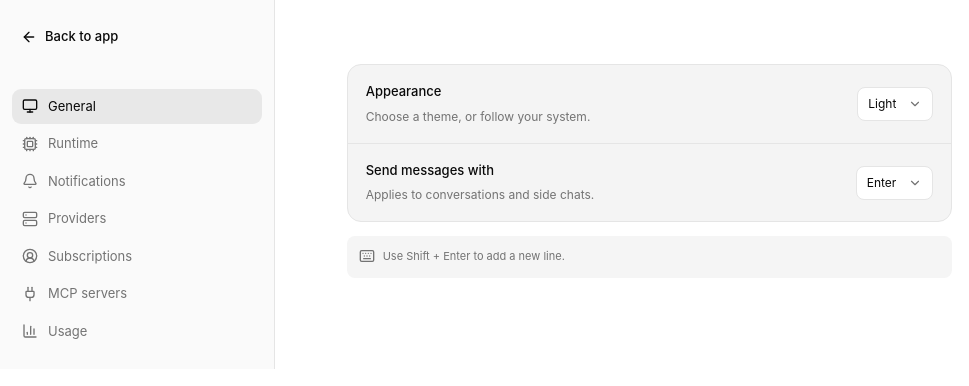
Test: reports configuration read failures and allows a fresh read
Click the button "Runtime": click(137, 144) [12,126,262,162]
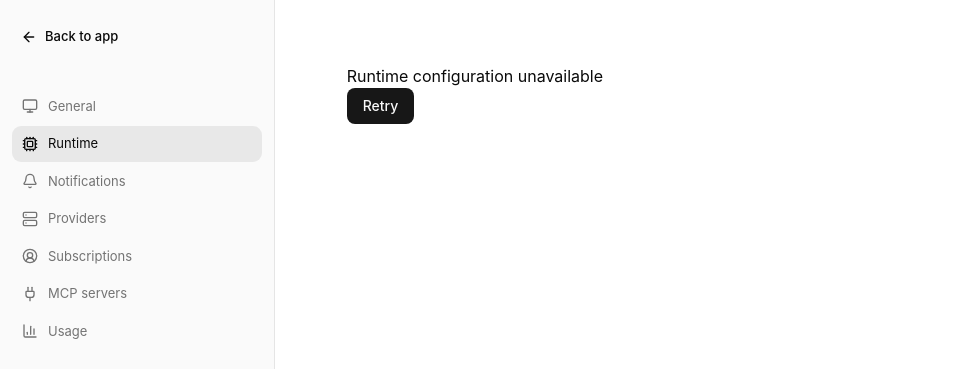
Expected: the message reads "Runtime configuration unavailable", [347,66,603,86]
Click the button "Retry": click(380, 106) [347,88,414,124]
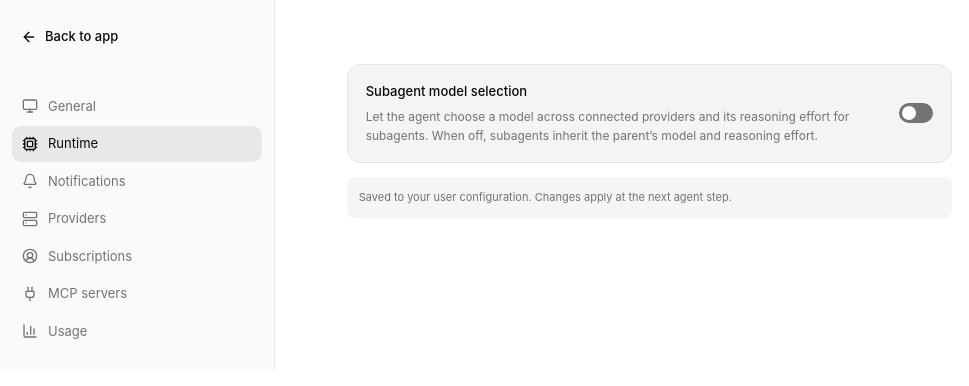
Expected: the switch named "Subagent model selection" is shown, [899,103,933,123]
Expected: the message "Runtime configuration unavailable" is gone
